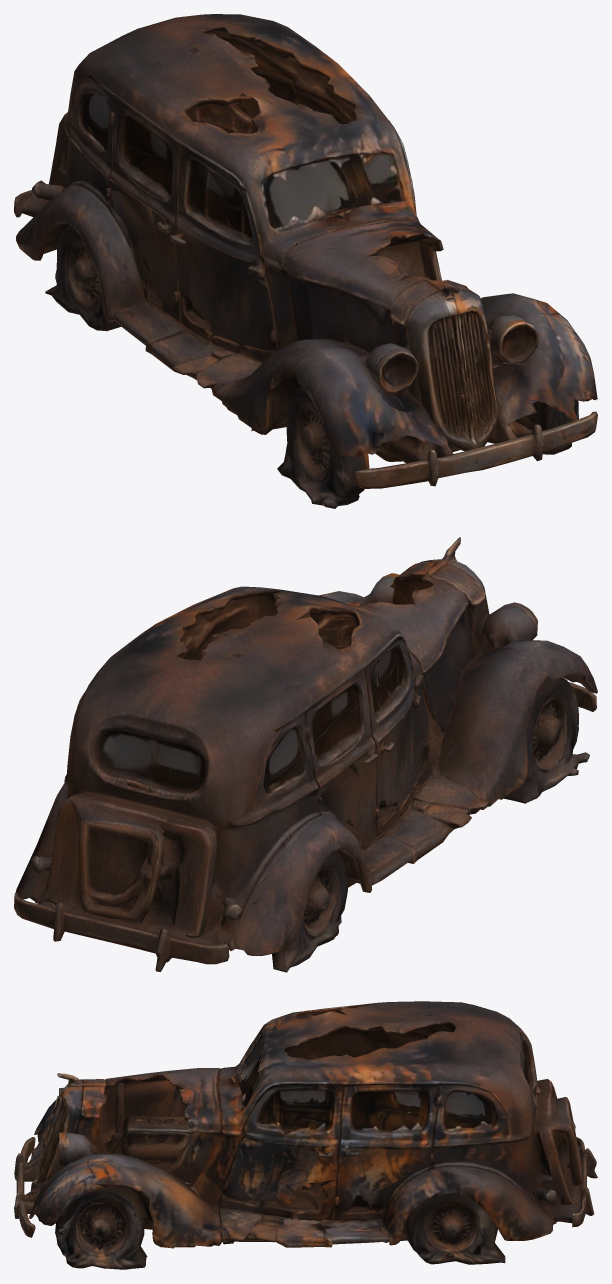
Rendered from sedan-wreck-charred.glb.
The picture shows the model from 3 angles, top to bottom: view 1: azimuth 30°, elevation 25°; view 2: azimuth 150°, elevation 25°; view 3: azimuth 270°, elevation 25°; orthographic projection. The views are drawn at different scales.
Parts seen in each view (by area): view 1: SM_SedanWreckCharred; view 2: SM_SedanWreckCharred; view 3: SM_SedanWreckCharred.
Boxes of the visible parts, x1,y1,x2,y2 form: SM_SedanWreckCharred: (14,14,597,508); SM_SedanWreckCharred: (14,537,597,972); SM_SedanWreckCharred: (14,1001,597,1269).
Bounding box in the file's own units: 2.02 × 1.77 × 4.6.
Materials: 1 (1 with a texture image).
